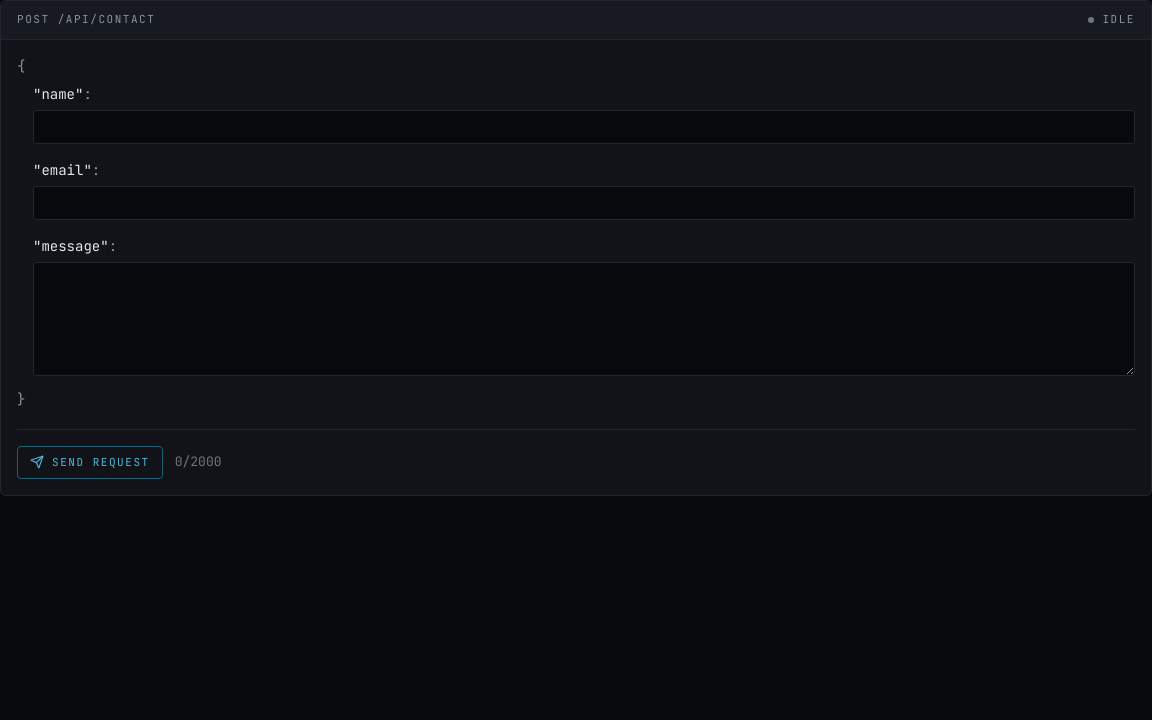
Scenario: ContactTerminal — honestidad cuando no se puede entregar › con 501 NO dice "enviado": lo declara y ofrece el mailto
This screenshot has width=1152, height=720.
In the field labelled "\"name\":": (584, 127) [33,110,1135,144], type "Ana Pérez"
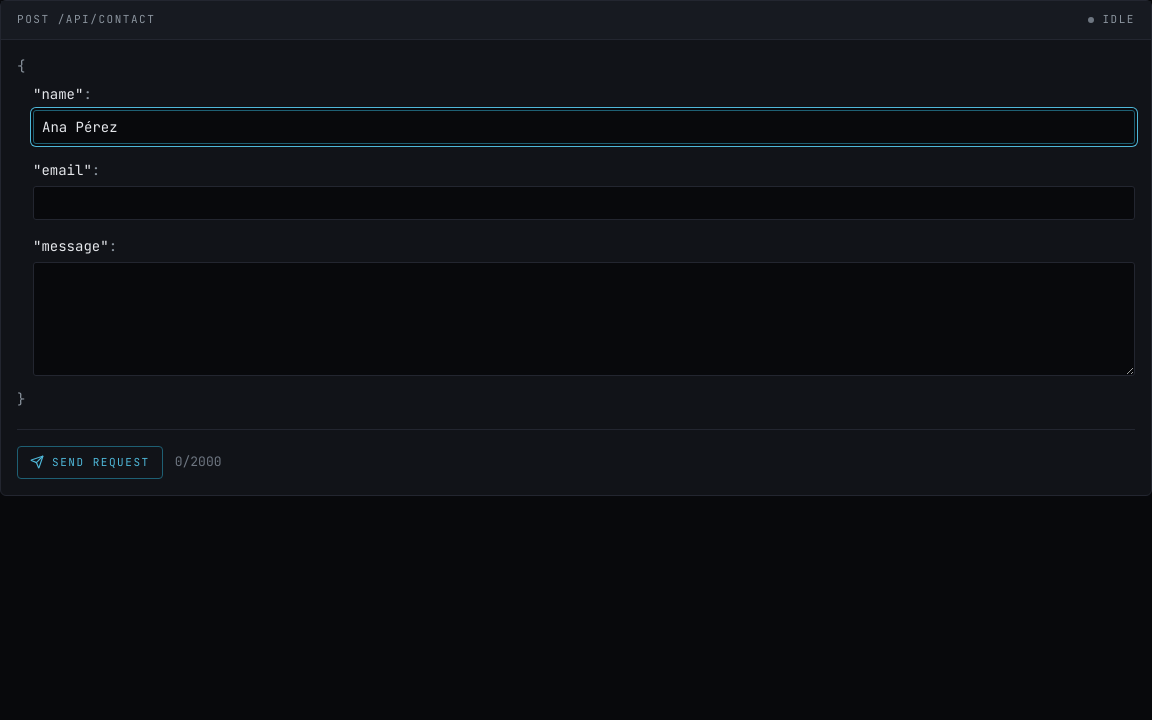
In the field labelled "\"email\":": (584, 203) [33,186,1135,220], type "ana@empresa.com"
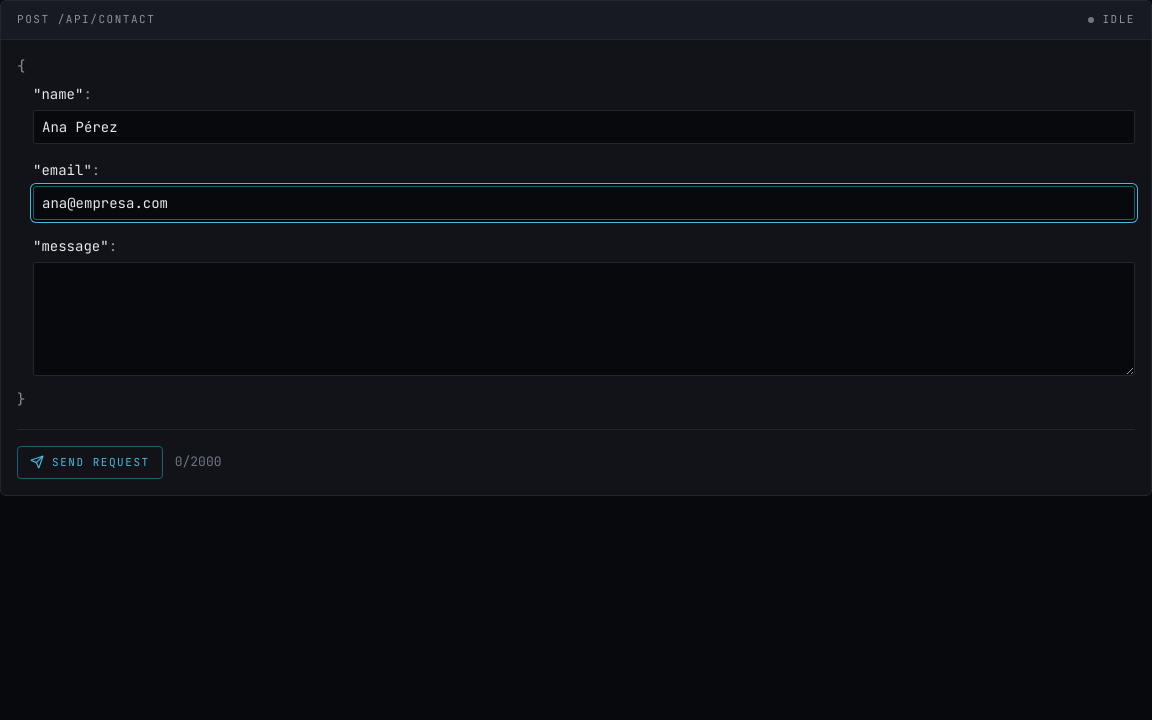
In the text box labelled "\"message\":": (584, 319) [33,262,1135,376], type "Hola Cristian, te escribo por una posición backend con NestJS."
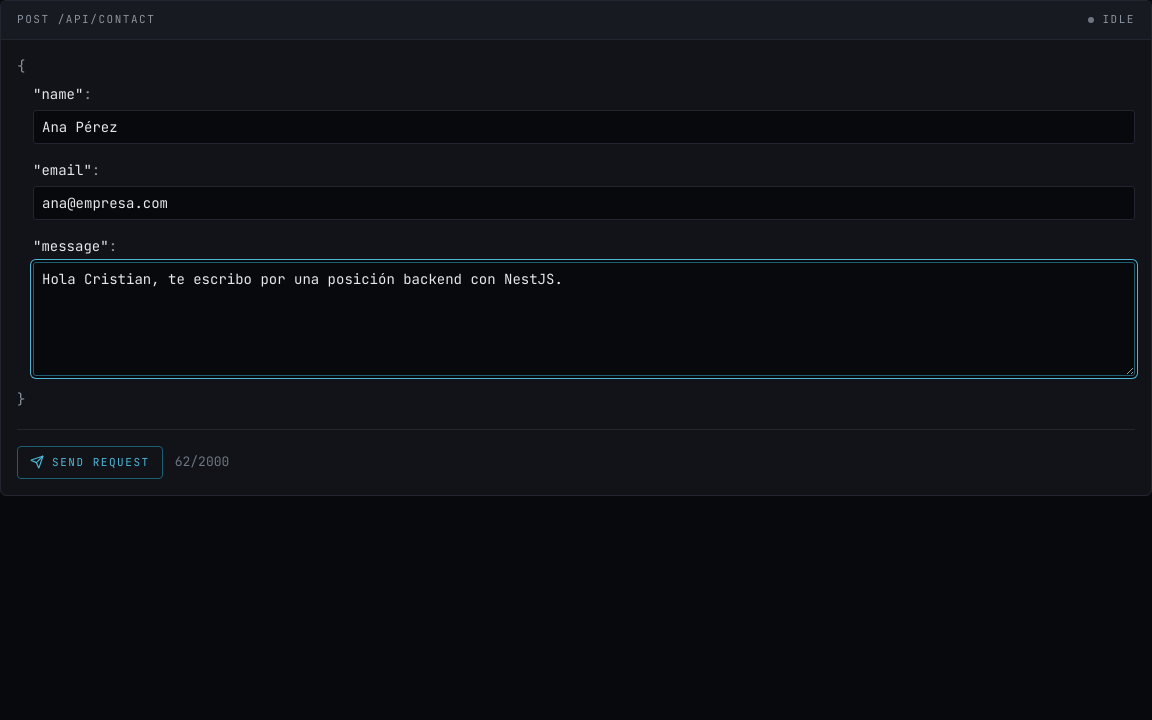
Click the button "send request": (90, 462) [17,446,163,479]
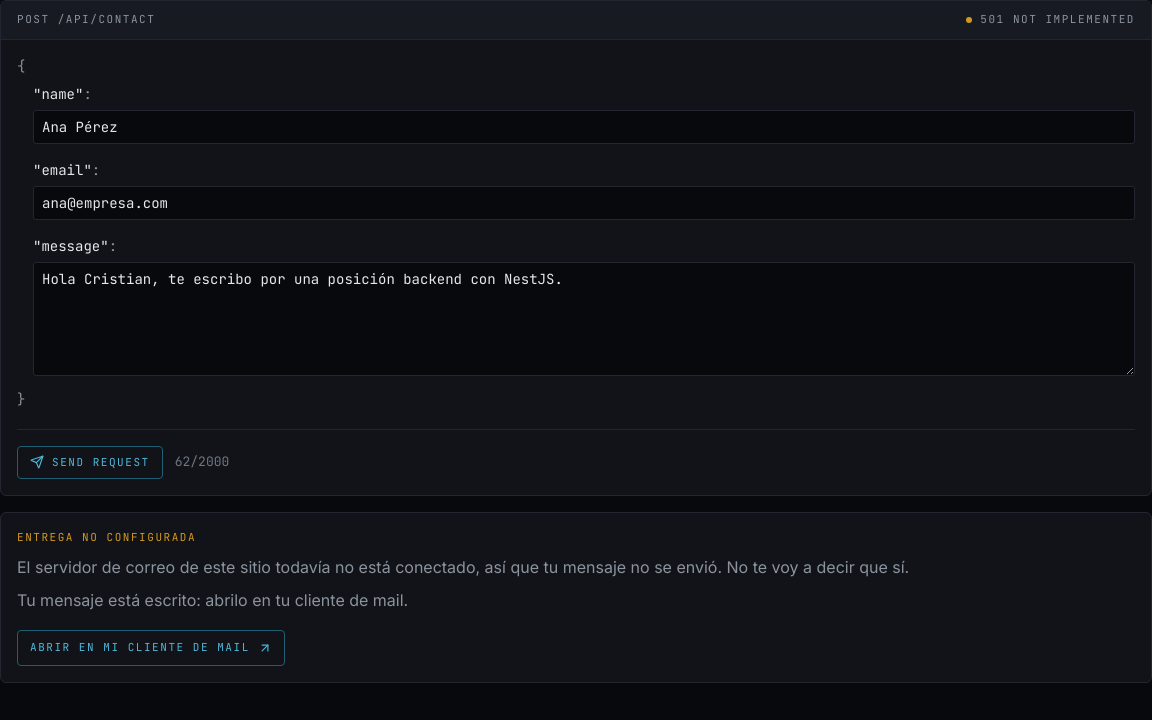
Expected: the text "no se envió" is shown, [17,557,909,577]
